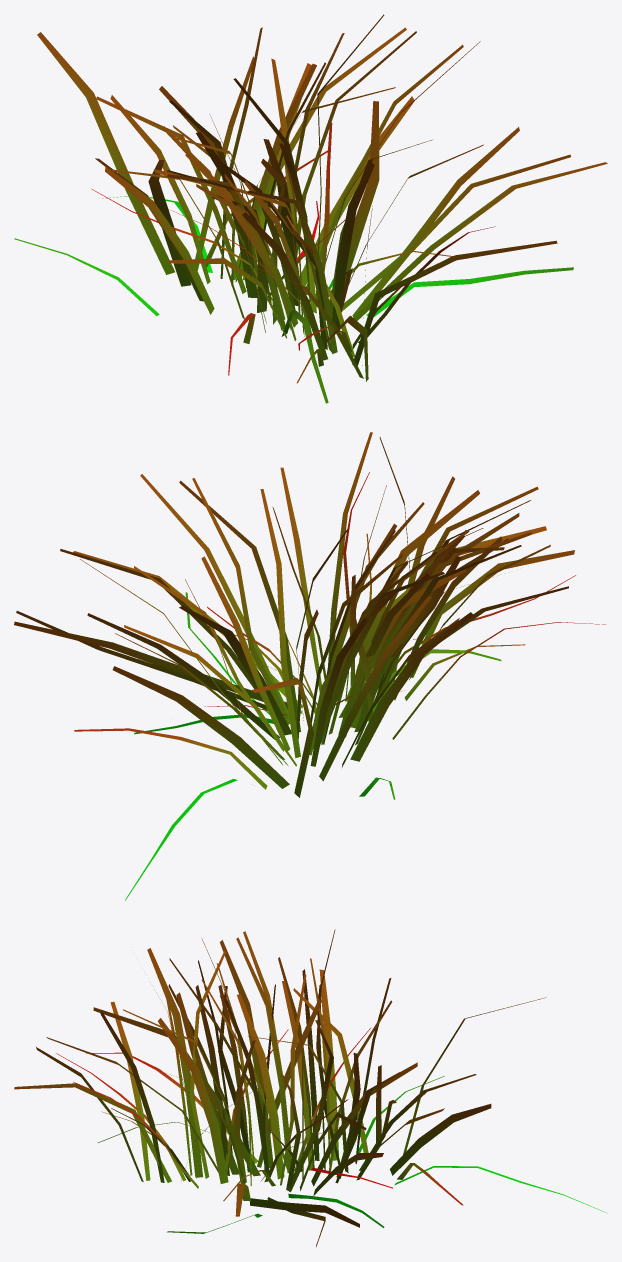
File: vegetation_17.fbx
3 views of the same model, one above another, from view 1: azimuth 30°, elevation 25°; view 2: azimuth 150°, elevation 25°; view 3: azimuth 270°, elevation 25° (orthographic). The views are drawn at different scales.
Visible parts, largest first — view 1: _k1pc_Var7_; view 2: _k1pc_Var7_; view 3: _k1pc_Var7_.
Boxes of the visible parts, x1,y1,x2,y2 form: _k1pc_Var7_: (14, 14, 607, 403); _k1pc_Var7_: (14, 432, 605, 900); _k1pc_Var7_: (14, 929, 607, 1247).
Size of the model in its own units: 23.66 by 12.98 by 29.63.
